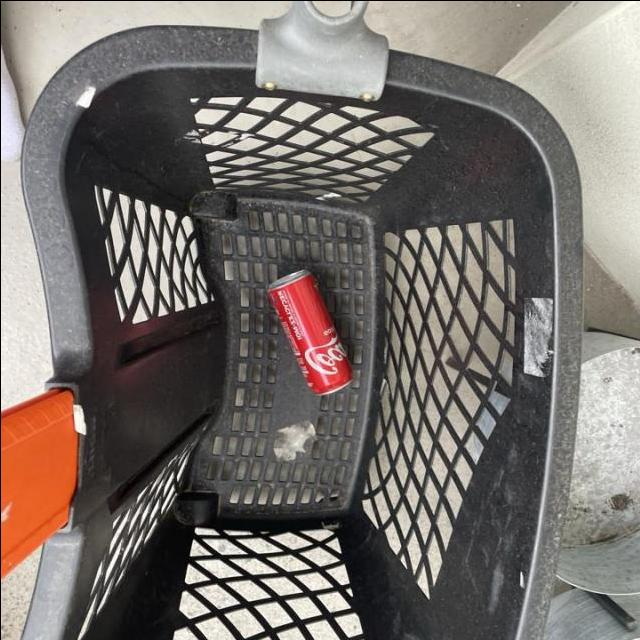can: (266, 263, 353, 398)
